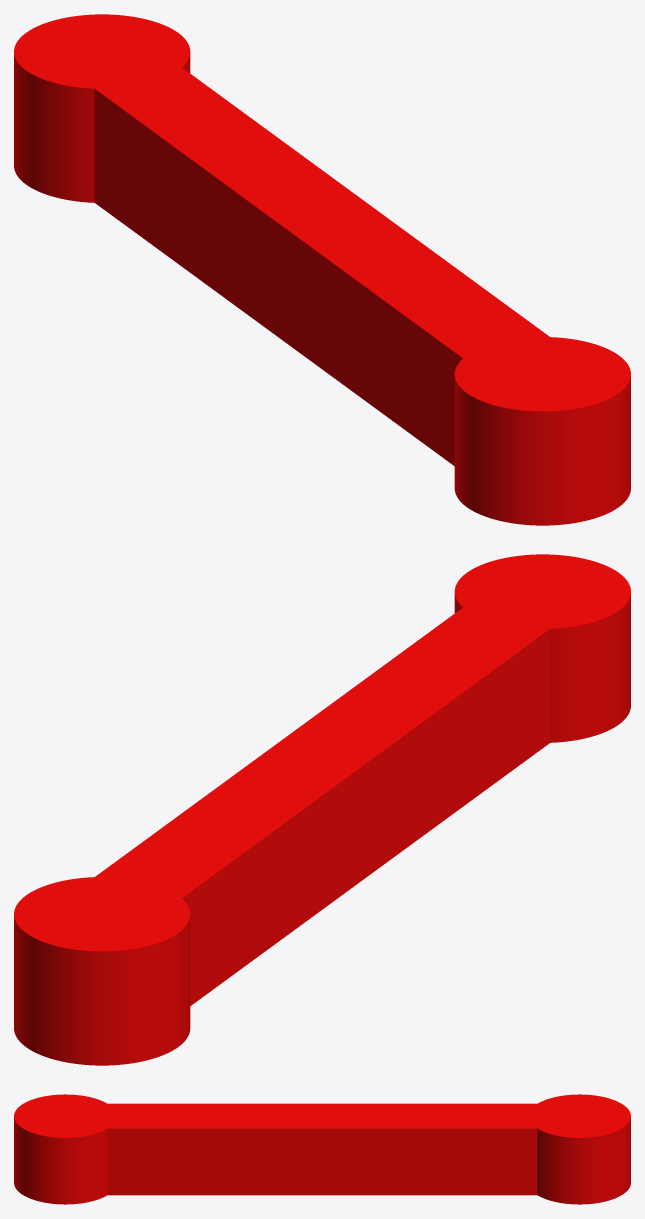
Rendered from GripperArm.dae.
The picture shows the model from 3 angles, top to bottom: view 1: azimuth 30°, elevation 25°; view 2: azimuth 150°, elevation 25°; view 3: azimuth 270°, elevation 25°; orthographic projection. The views are drawn at different scales.
Visible parts, largest first — view 1: node0; view 2: node0; view 3: node0.
Part boxes in pixels (x1,y1,x2,y2): node0: (14, 14, 630, 525); node0: (14, 554, 630, 1065); node0: (14, 1094, 630, 1204).
Bounding box in the file's own units: 7 × 42 × 5.
